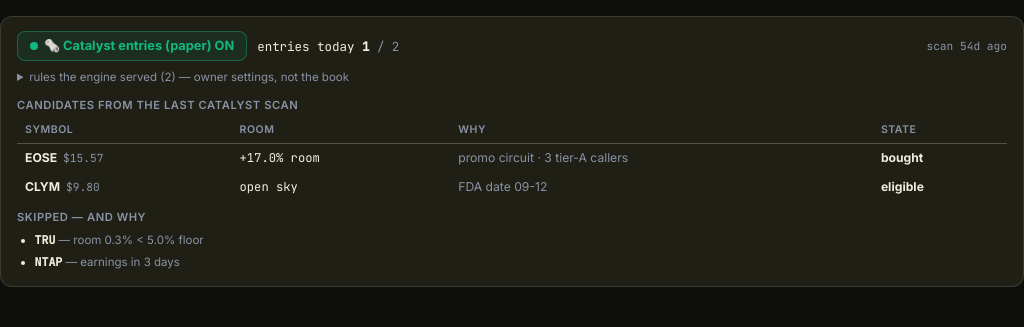
Test case: CatalystEntryCard — the switch (POST /trading/config) › a refused POST shows the engine error and refreshes nothing (negative)
The width and height of the screenshot is (1024, 327).
Click the button "🗞️ Catalyst entries (paper) ON".
click(132, 46)  # box [17,31,247,61]
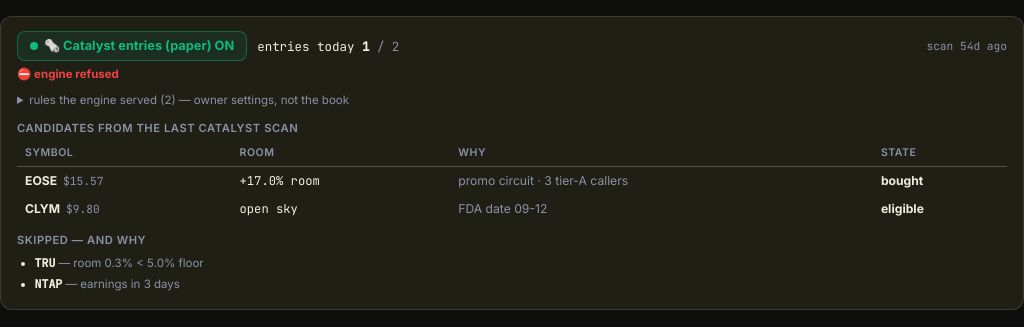
expect the text "⛔ engine refused" is shown: met, box [17,67,119,81]
